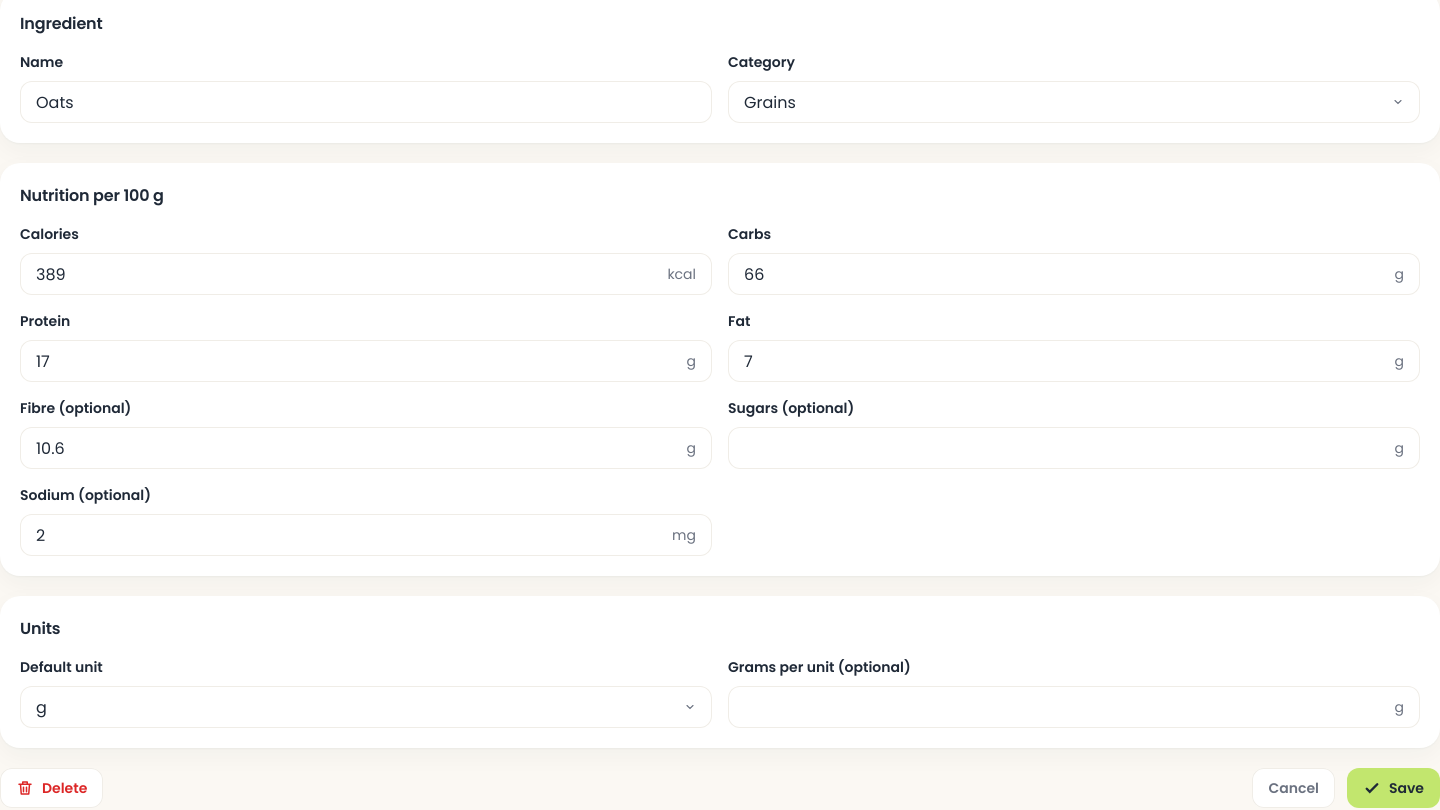
Test: IngredientEditor › asks before deleting, and deletes on confirm
The width and height of the screenshot is (1440, 810).
(page scrolled)
Click the button "Delete" at (52,788), box [0,768,103,808]
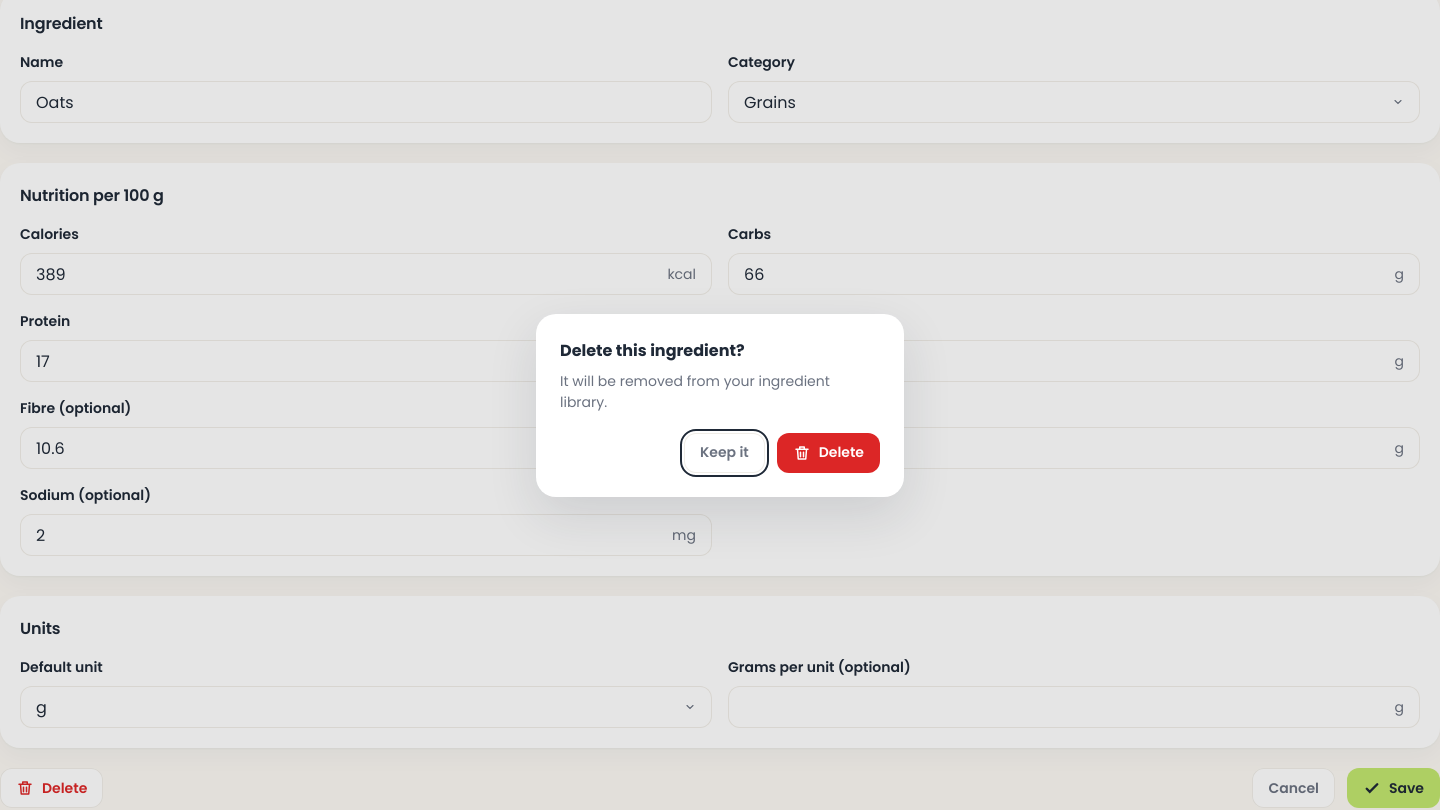
Click the button "Keep it" at (724,452), box [684,432,765,472]
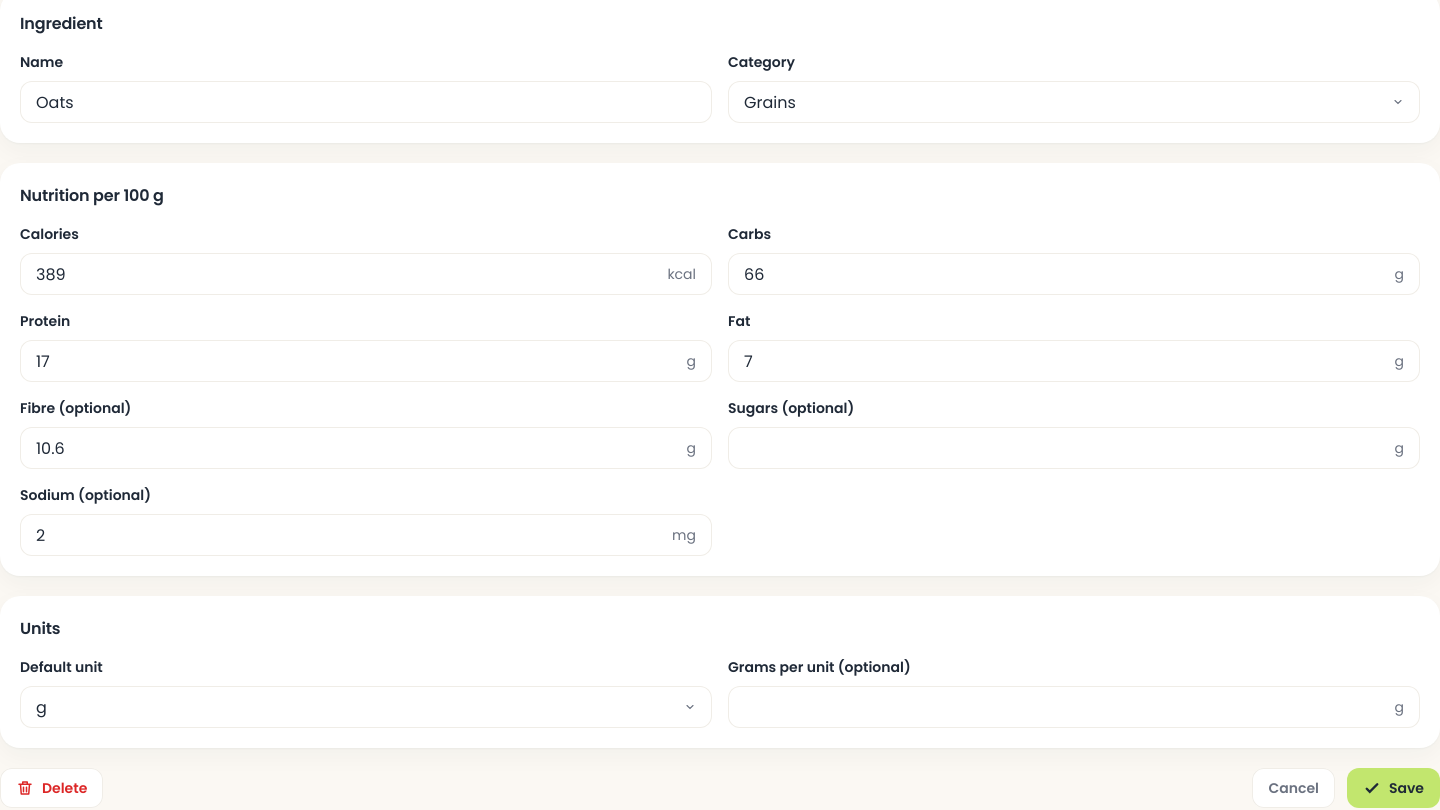
Expected: the dialog is gone
Click the button "Delete" at (52,788), box [0,768,103,808]
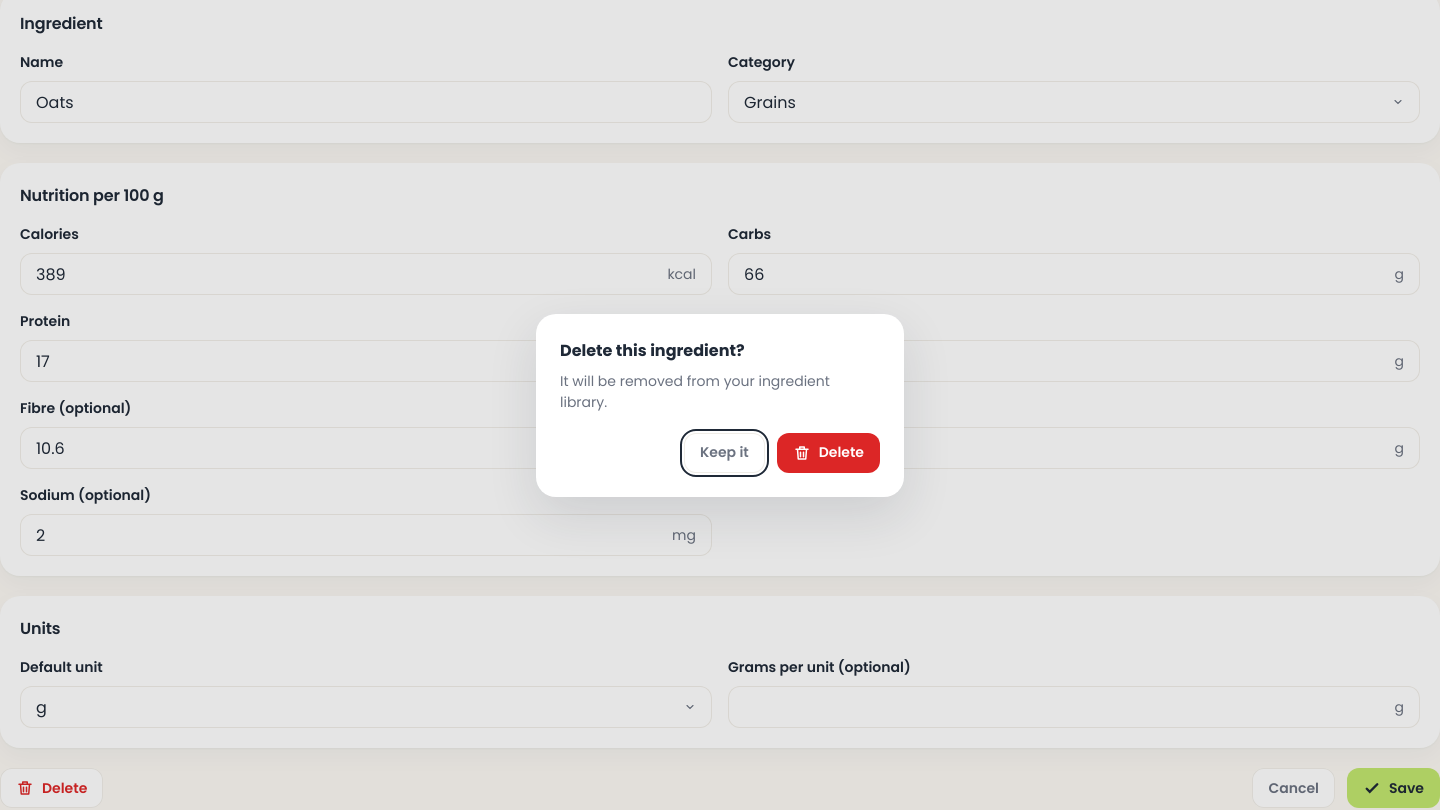
Click the button "Delete" at (828,452), box [777,432,880,472]
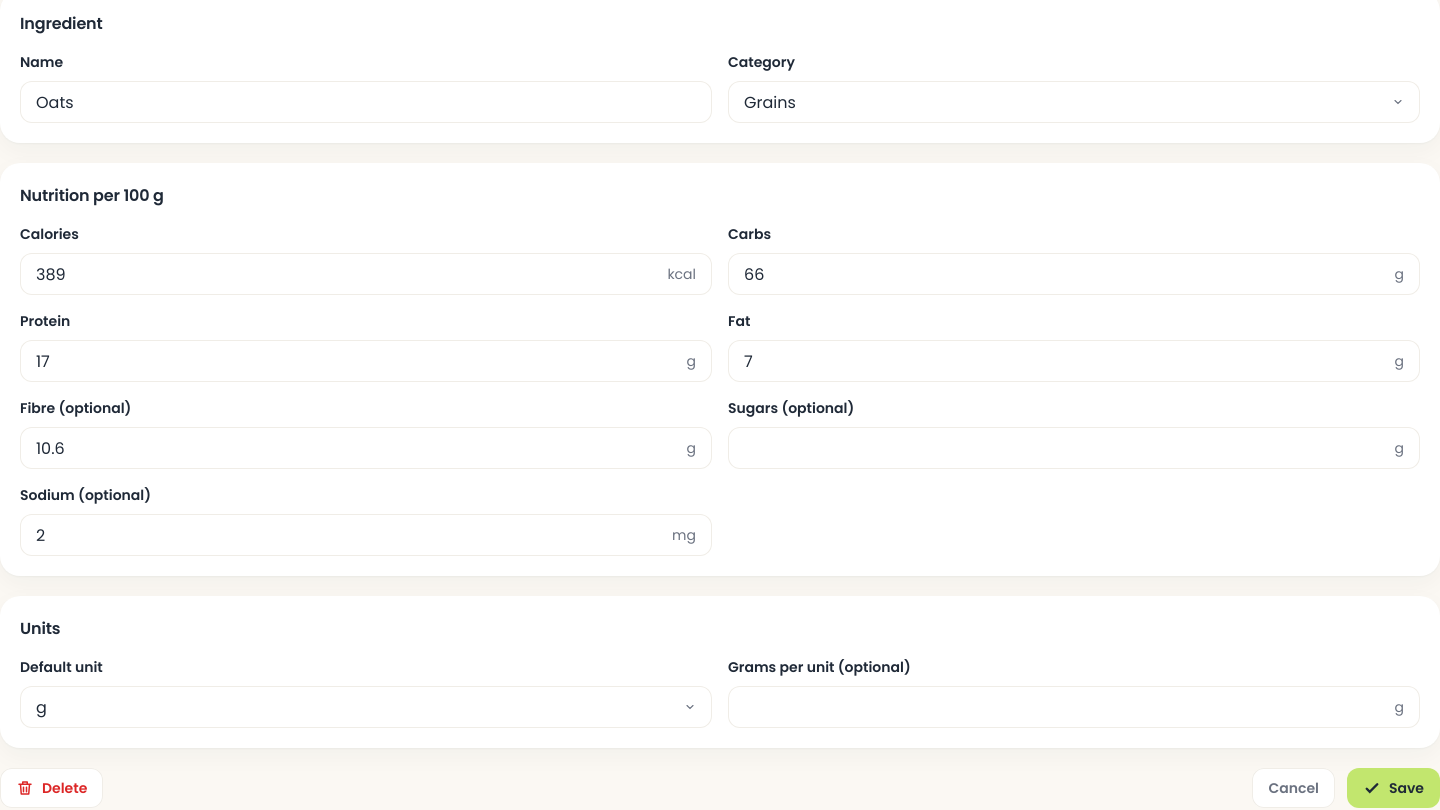
Expected: the dialog is gone
